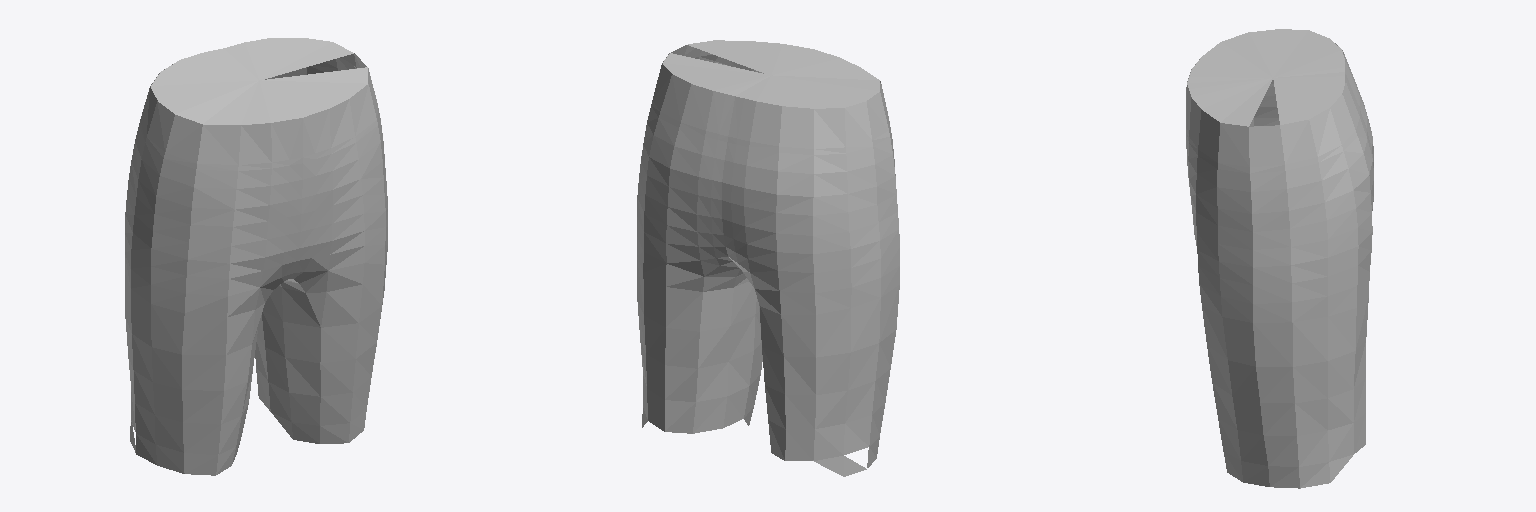
File: jersey_under.obj
3 renders of one model, left to right at view 1: azimuth 30°, elevation 25°; view 2: azimuth 150°, elevation 25°; view 3: azimuth 270°, elevation 25°, orthographic.
Visible parts, largest first — view 1: Body; view 2: Body; view 3: Body.
Part boxes in pixels (left/top/right/bottom): Body: left=125, top=38, right=387, bottom=475; Body: left=637, top=40, right=899, bottom=476; Body: left=1186, top=29, right=1373, bottom=488.
Size of the model in its own units: 0.3153 by 0.4657 by 0.2155.